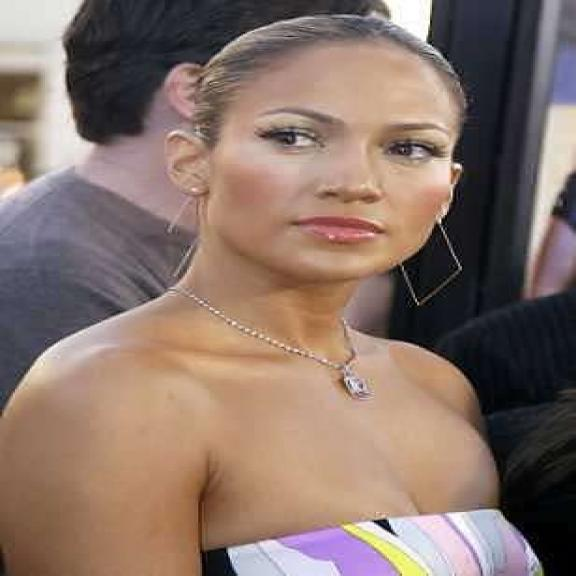face: (167, 33, 476, 288)
